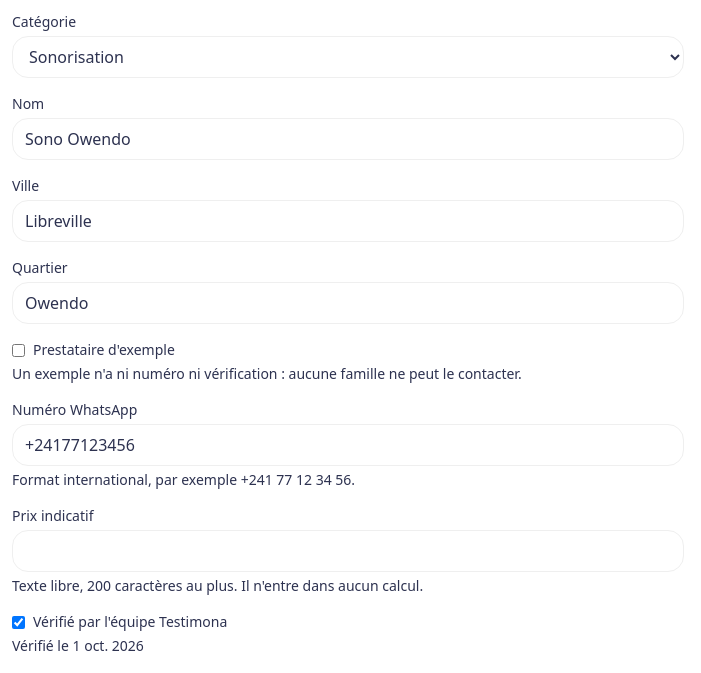
Test: ProviderForm › affiche la date fournie tant que la case Vérifié est cochée
The width and height of the screenshot is (701, 673).
Expected: the text "Vérifié le 1 oct. 2026" is shown, [12,636,144,655]
Click the checkbox labelled "Vérifié par l'équipe Testimona". click: (18, 622)
box: [12,616,25,628]
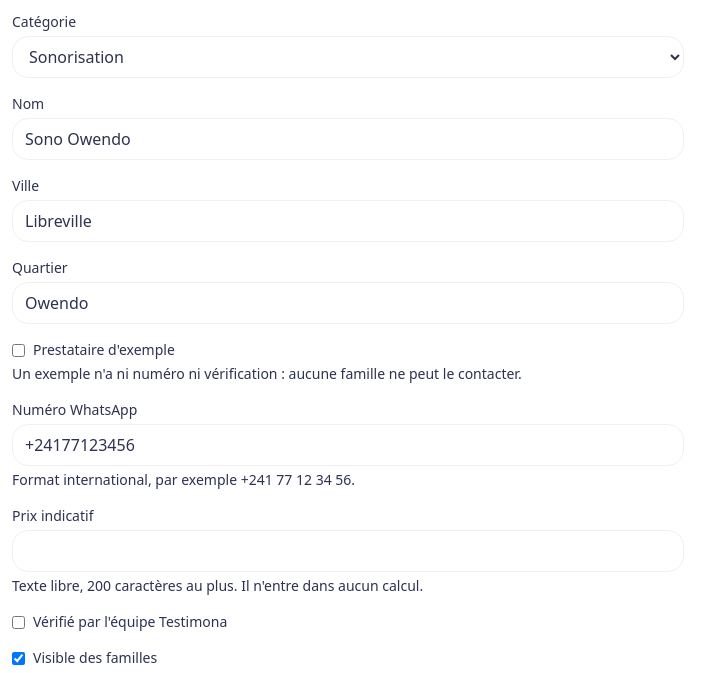
Expected: the text "Vérifié le 1 oct. 2026" is gone
Click the checkbox labelled "Vérifié par l'équipe Testimona". click: (18, 622)
box: [12,616,25,628]
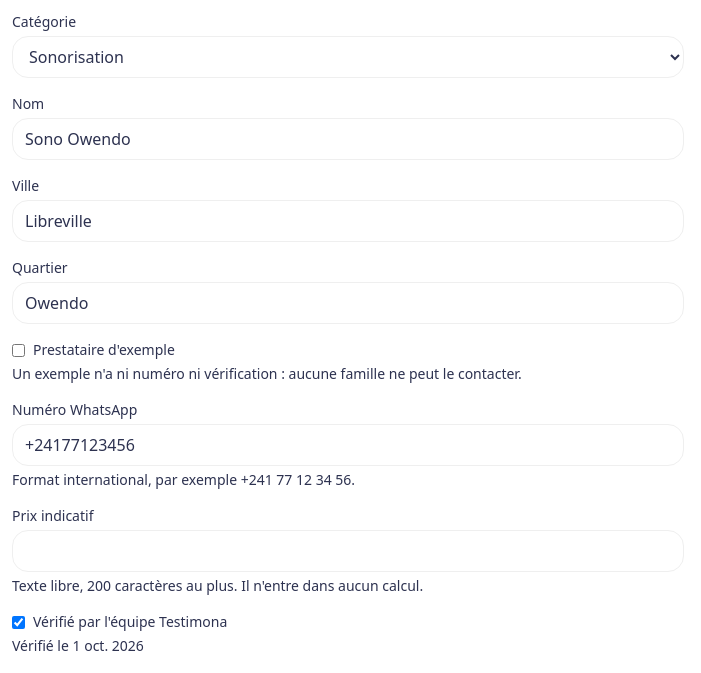
Expected: the text "Vérifié le 1 oct. 2026" is shown, [12,636,144,655]
